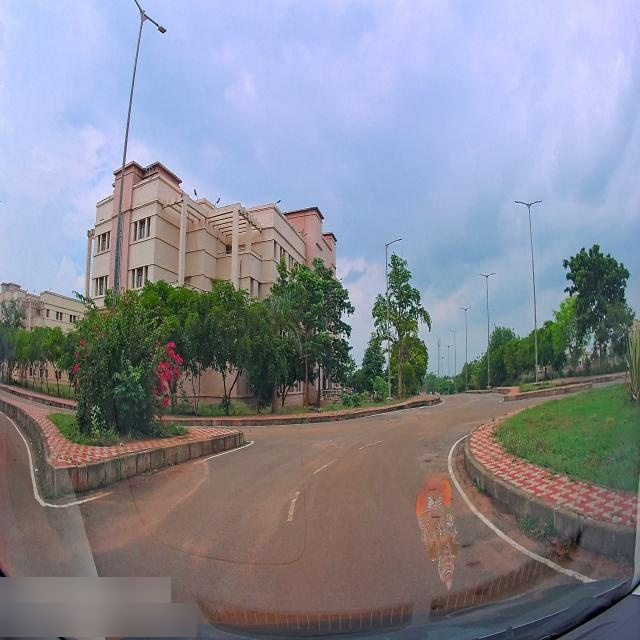pothole: (465, 555, 486, 571), (472, 587, 494, 598), (460, 536, 480, 548), (424, 456, 434, 464), (423, 441, 427, 446)
